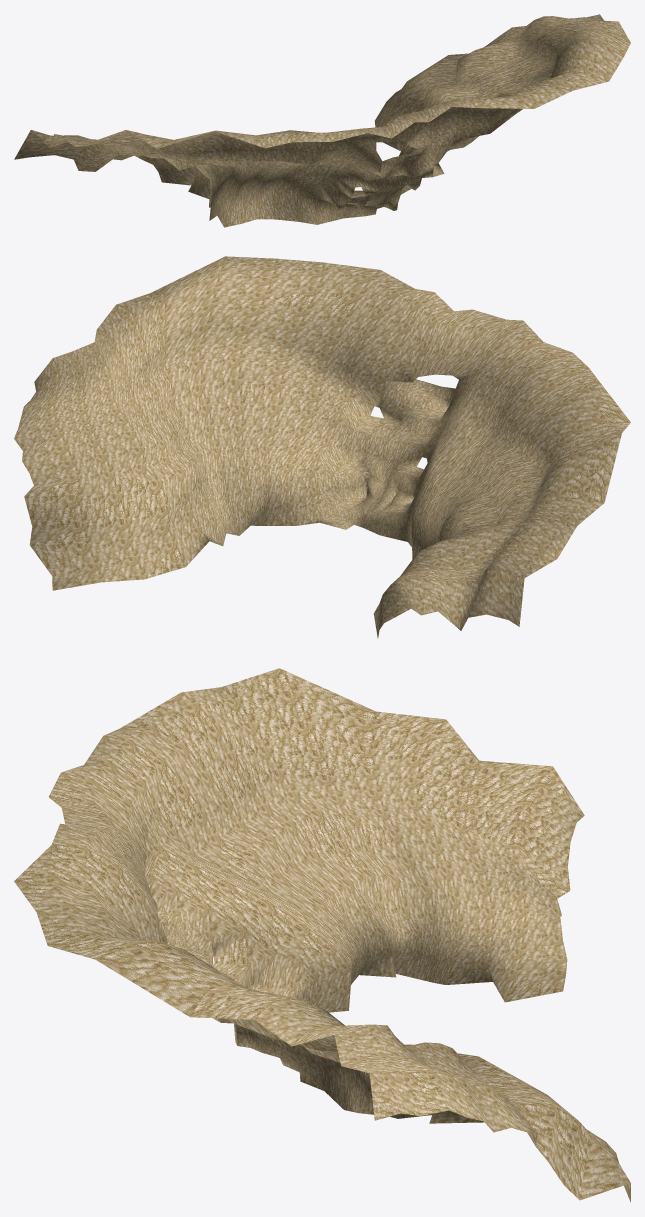
File: CLIFFFRONT_FRONT.fbx
3 renders of one model, top to bottom at view 1: azimuth 30°, elevation 25°; view 2: azimuth 150°, elevation 25°; view 3: azimuth 270°, elevation 25°, orthographic. The views are drawn at different scales.
Visible parts, largest first — view 1: CLIFFFRONT_FRONT; view 2: CLIFFFRONT_FRONT; view 3: CLIFFFRONT_FRONT.
Part boxes in pixels (x1,y1,x2,y2): CLIFFFRONT_FRONT: [14, 14, 630, 227]; CLIFFFRONT_FRONT: [14, 256, 630, 638]; CLIFFFRONT_FRONT: [14, 668, 630, 1202].
Size of the model in its own units: 1384967 by 446578 by 940872.
8 materials, 8 textured.
